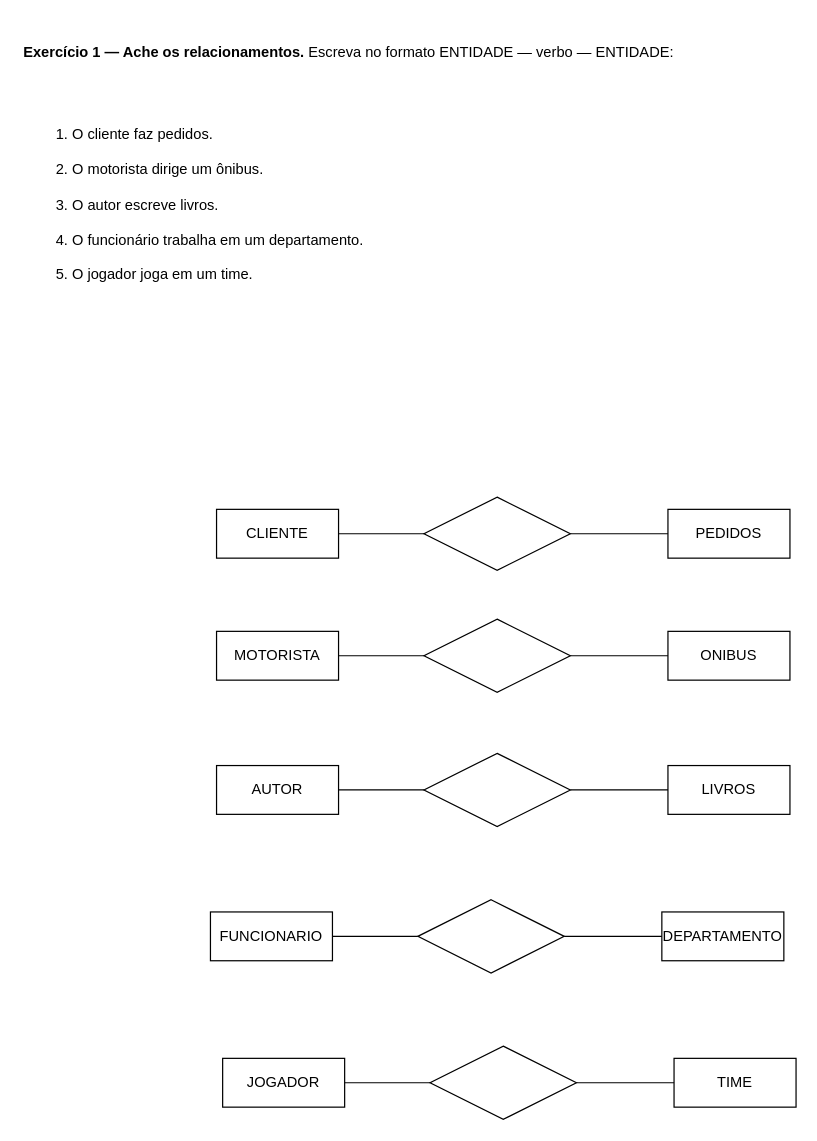
The diagram is 817 pixels wide and 1141 high, and some of its shapes have lost their labels. Each missing label, with the centre of its shape:
"dirige" belongs at (496,655).
"escreve" belongs at (496,789).
"faz" belongs at (496,533).
"joga" belongs at (502,1082).
"trabalha" belongs at (490,936).
